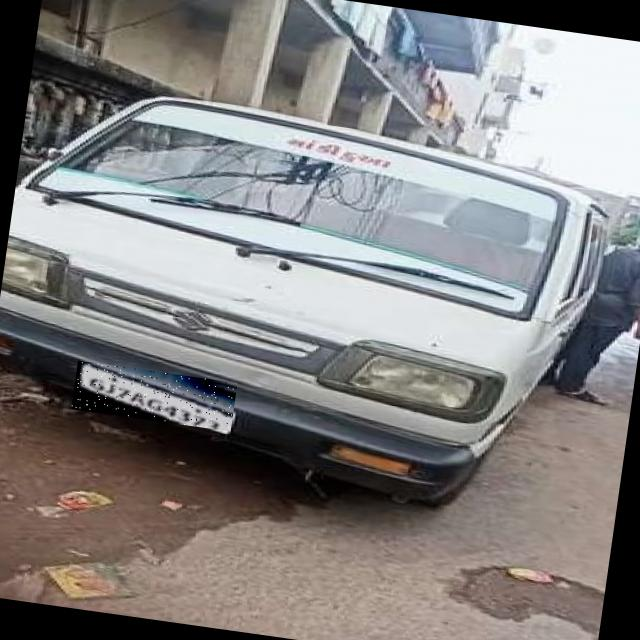Plate: (73, 362, 239, 433)
